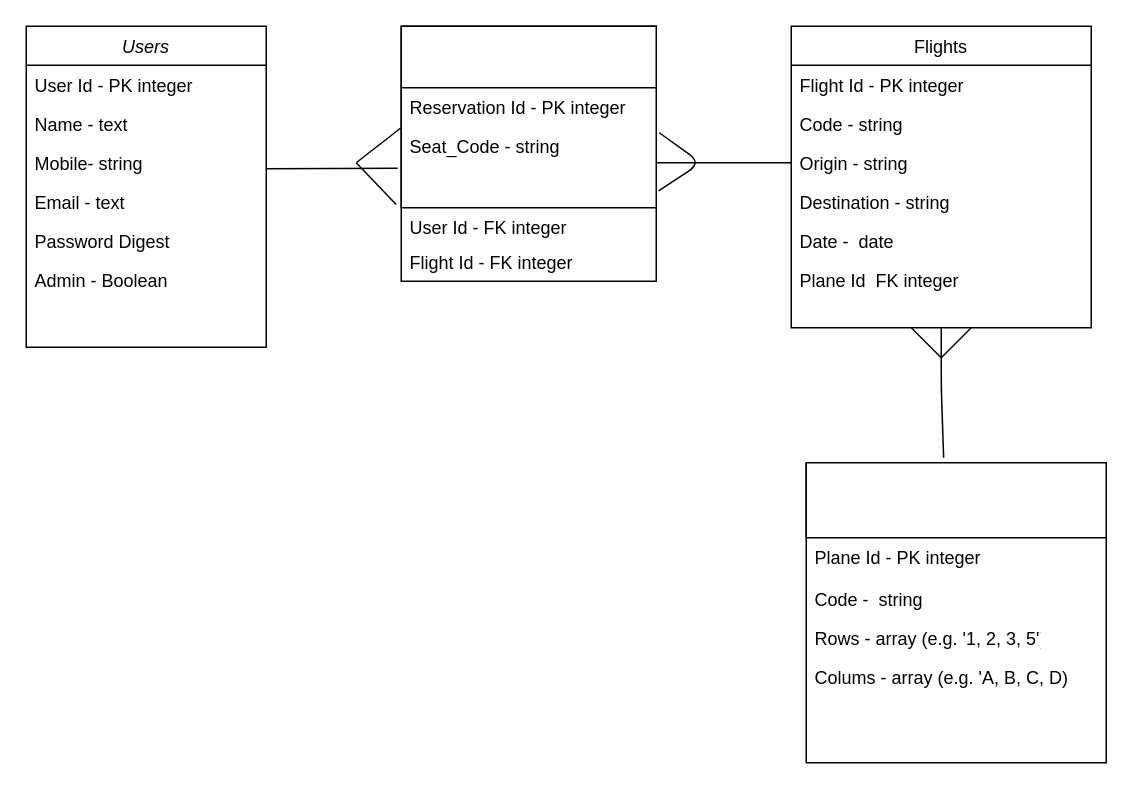
The diagram is 1133 pixels wide and 789 high, and some of its shapes have lost their labels. Each missing label, with the centre of its shape:
"Planes" goes at (955,499).
"Reservations" goes at (528,56).
